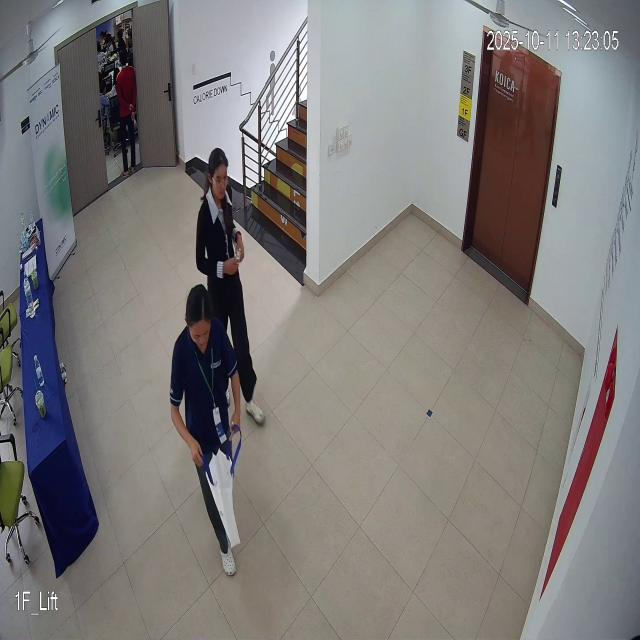face: (204, 144, 236, 212)
